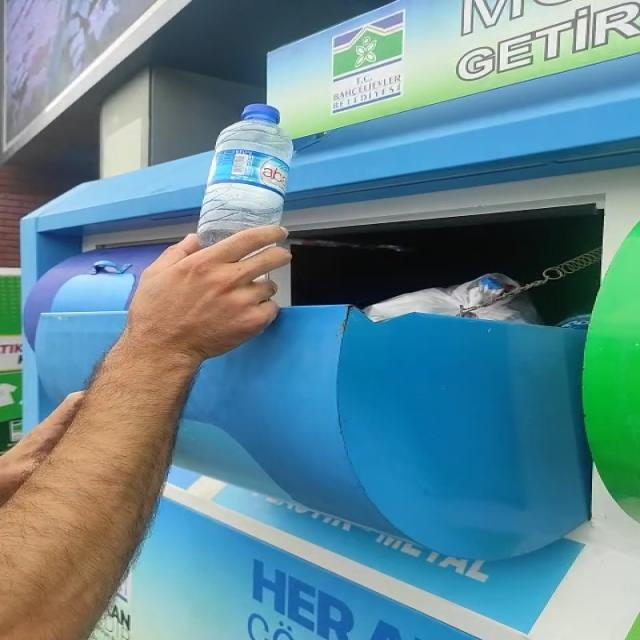plastic: (197, 103, 292, 244)
